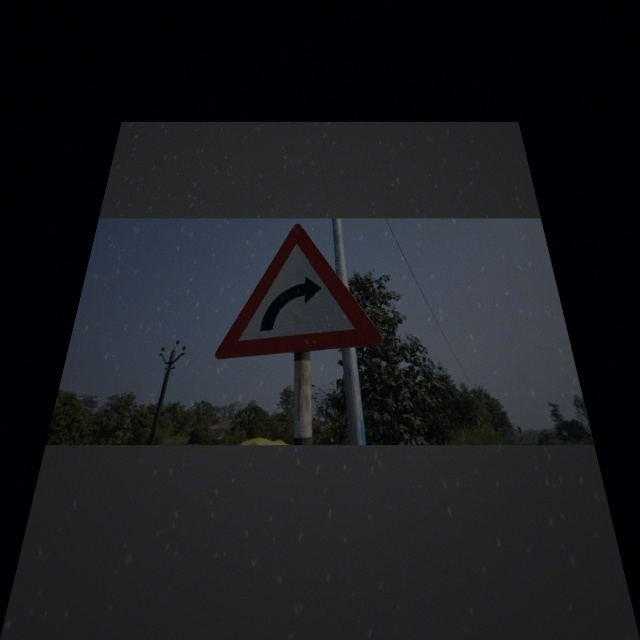Right_Hand_Curve: (221, 222, 380, 361)
